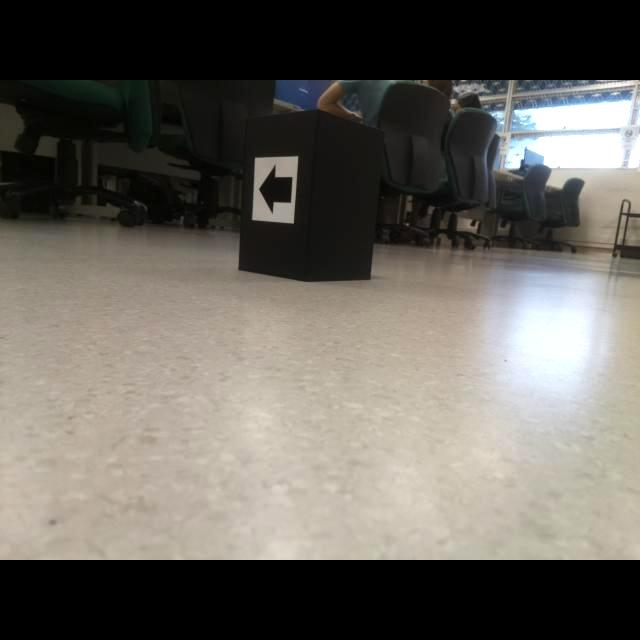LEFT: (258, 163, 293, 216)
